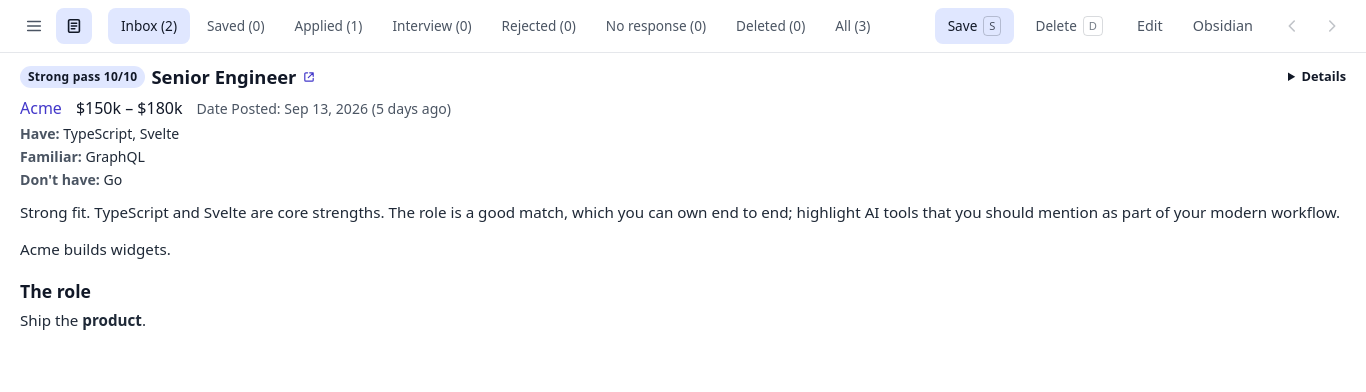
renders job detail content and properties
Check: the heading "Senior Engineer" is shown, box left=152, top=65, right=296, bottom=88
Check: the text "$150k – $180k" is shown, box left=76, top=96, right=182, bottom=120
Click the heading "Details". click: point(1324, 76)
box: left=1302, top=67, right=1346, bottom=85
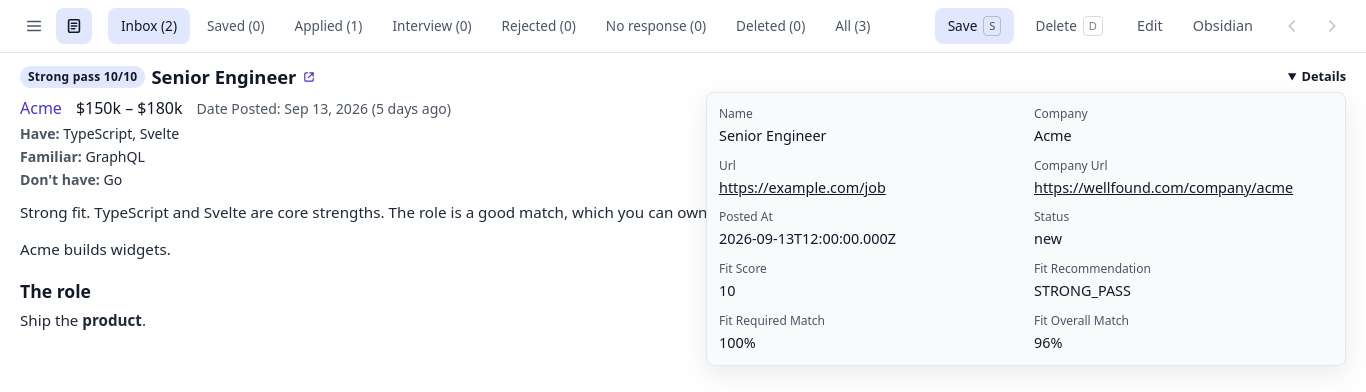
Check: the text "96%" is shown, box left=1034, top=332, right=1062, bottom=352
Check: the text "100%" is shown, box left=719, top=332, right=756, bottom=352
Check: the link "https://example.com/job" is shown, box left=719, top=178, right=886, bottom=197
